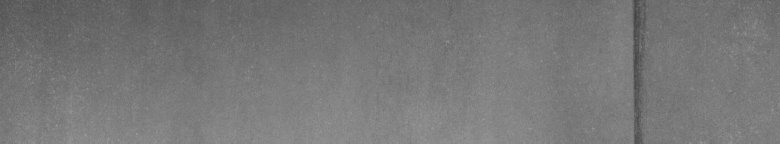hd: (625, 4, 648, 136)
